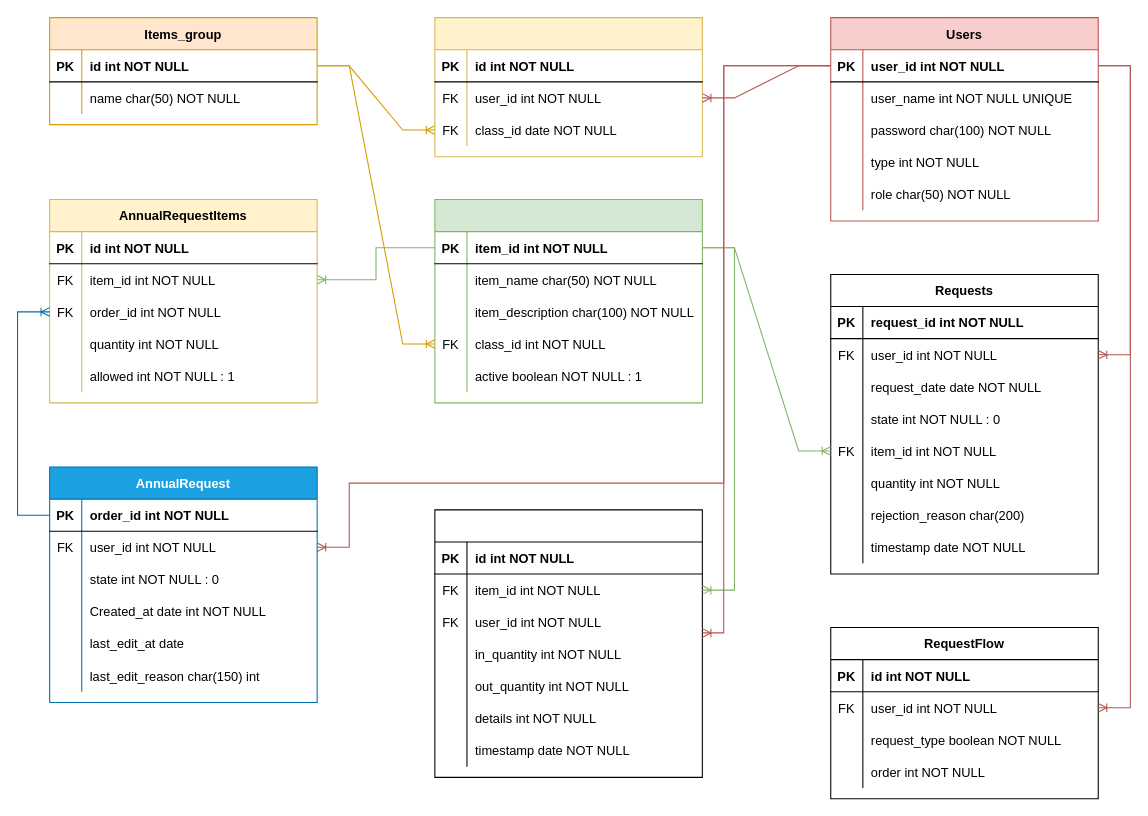
This 1148x816 diagram has some shape labels left out. Each missing label, with the box of its shape:
Items: (434, 198, 702, 403)
Stock: (434, 509, 702, 777)
UsedrItems_groups: (434, 17, 702, 157)
